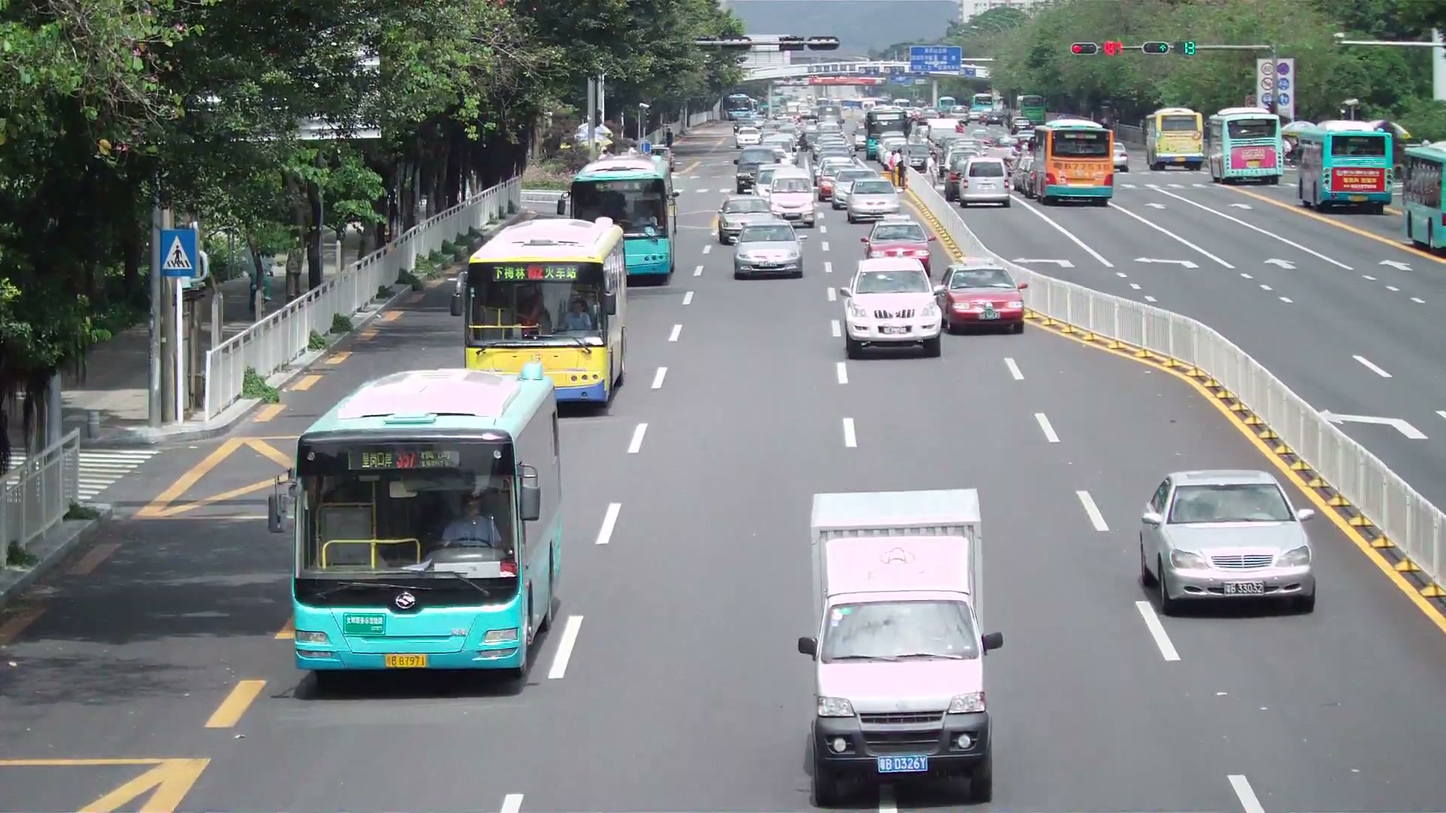bus: (267, 365, 568, 679), (461, 214, 629, 408), (569, 155, 676, 286), (1292, 119, 1396, 210), (1024, 117, 1116, 204), (1206, 107, 1282, 185), (1401, 140, 1446, 254), (1145, 108, 1207, 171)
car: (1136, 467, 1318, 617), (841, 259, 944, 359), (938, 262, 1028, 335), (859, 218, 937, 281), (731, 220, 805, 277), (756, 167, 817, 228), (715, 192, 771, 244), (957, 158, 1012, 210), (844, 177, 900, 223)
pedestrian: (441, 491, 502, 549)
truck: (798, 487, 1004, 805)
